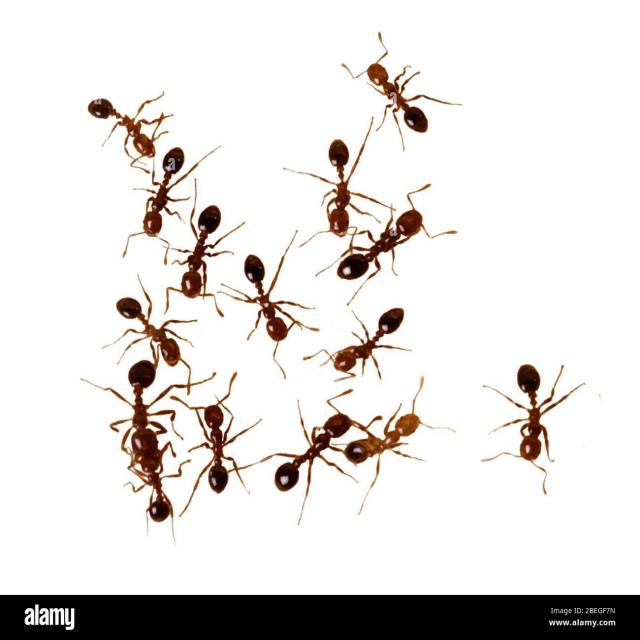ants: (326, 196, 434, 289), (490, 358, 572, 480), (349, 46, 442, 141), (266, 402, 354, 499), (337, 393, 439, 473), (237, 242, 304, 361), (128, 142, 200, 245), (105, 351, 171, 459), (81, 85, 161, 168), (110, 290, 189, 374), (170, 202, 231, 304), (328, 306, 414, 377), (186, 390, 241, 501), (315, 131, 364, 242), (136, 444, 176, 541)
